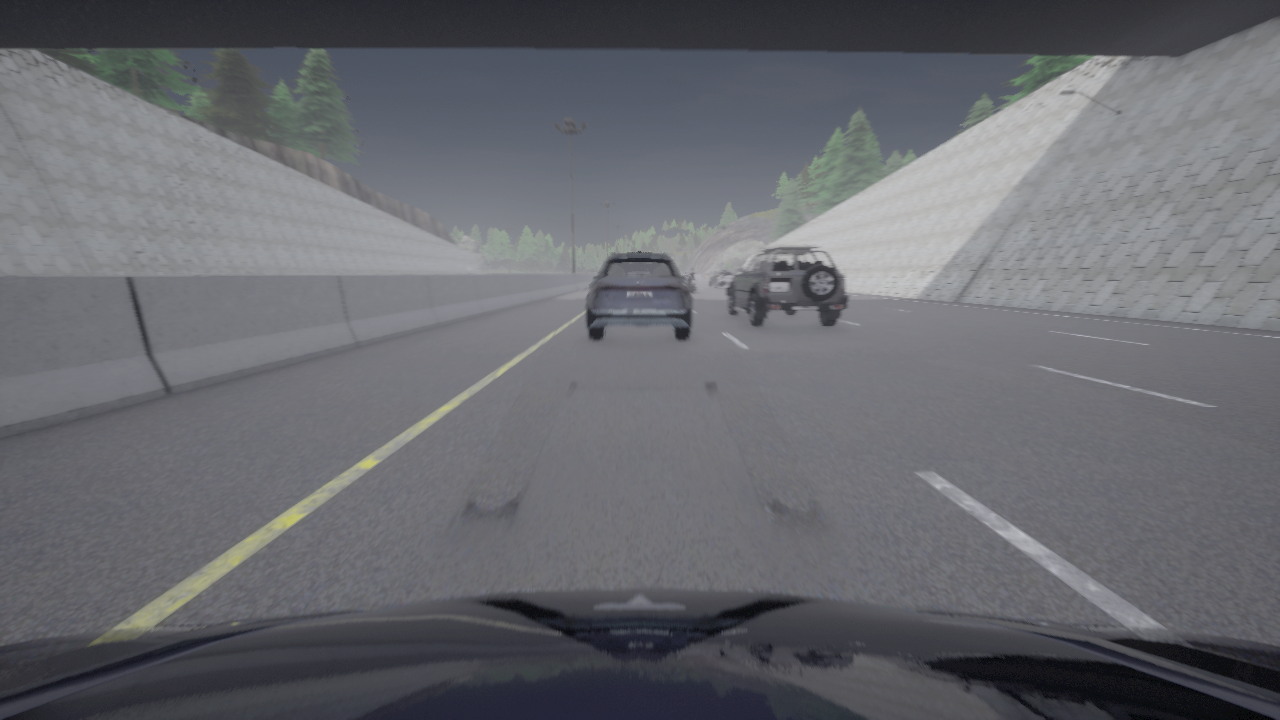cyclist: (0, 588, 1279, 719), (726, 246, 848, 326), (587, 251, 692, 339), (709, 270, 735, 288), (689, 279, 696, 292), (681, 272, 690, 280)
